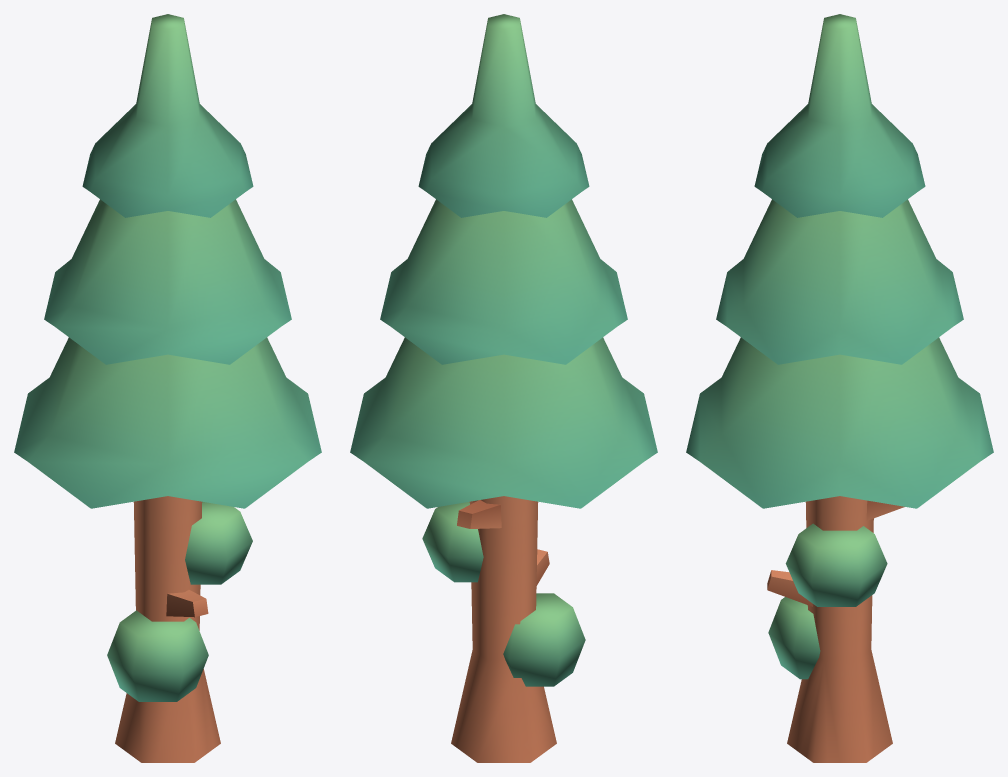
File: tree-high.obj
The picture shows the model from 3 angles, left to right: view 1: azimuth 30°, elevation 25°; view 2: azimuth 150°, elevation 25°; view 3: azimuth 270°, elevation 25°; orthographic projection.
Parts seen in each view (by area): view 1: tree-high; view 2: tree-high; view 3: tree-high.
Boxes of the visible parts, bbox=[...] form: tree-high: bbox=[14, 14, 321, 762]; tree-high: bbox=[350, 14, 657, 762]; tree-high: bbox=[686, 14, 993, 762].
Size of the model in its own units: 0.9274 by 2.28 by 0.8828.
1 material, 1 textured.
